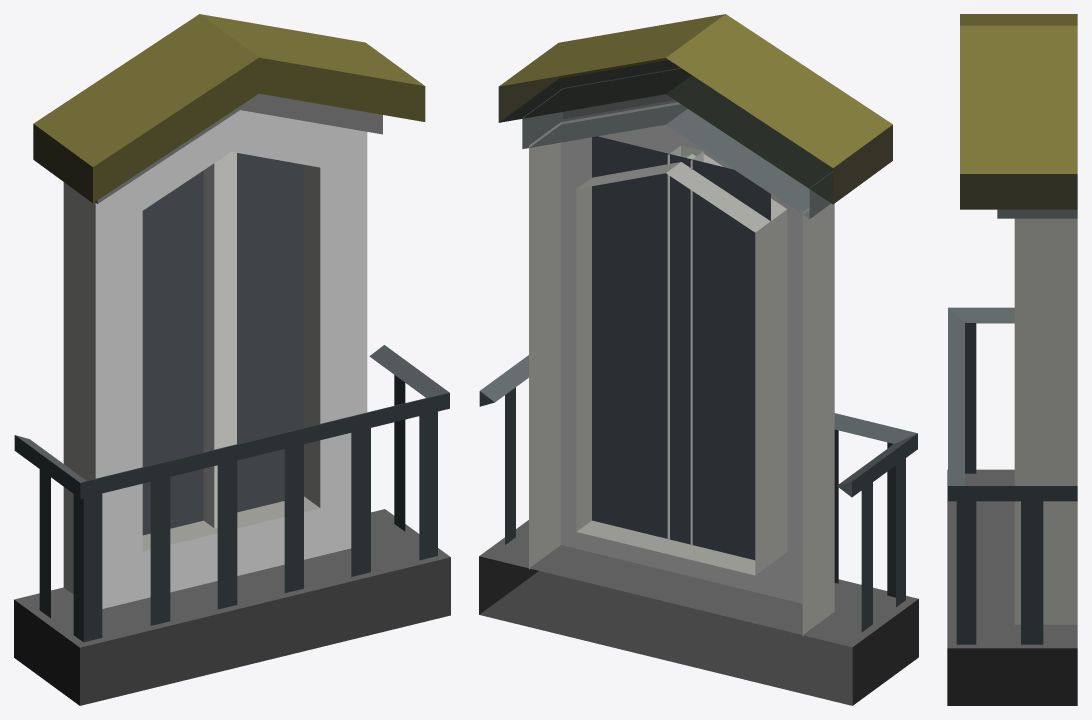
Rendered from TB_CITY_BD_Window_D.FBX.
3 views of the same model, side by side, from view 1: azimuth 30°, elevation 25°; view 2: azimuth 150°, elevation 25°; view 3: azimuth 270°, elevation 25° (orthographic).
Visible parts, largest first — view 1: TB_CITY_BD_Window_D; view 2: TB_CITY_BD_Window_D; view 3: TB_CITY_BD_Window_D.
Part boxes in pixels (left/top/right/bottom): TB_CITY_BD_Window_D: left=14, top=14, right=450, bottom=705; TB_CITY_BD_Window_D: left=479, top=14, right=918, bottom=705; TB_CITY_BD_Window_D: left=947, top=14, right=1077, bottom=705.
Bounding box in the file's own units: 1.96 × 3.03 × 0.6036.
